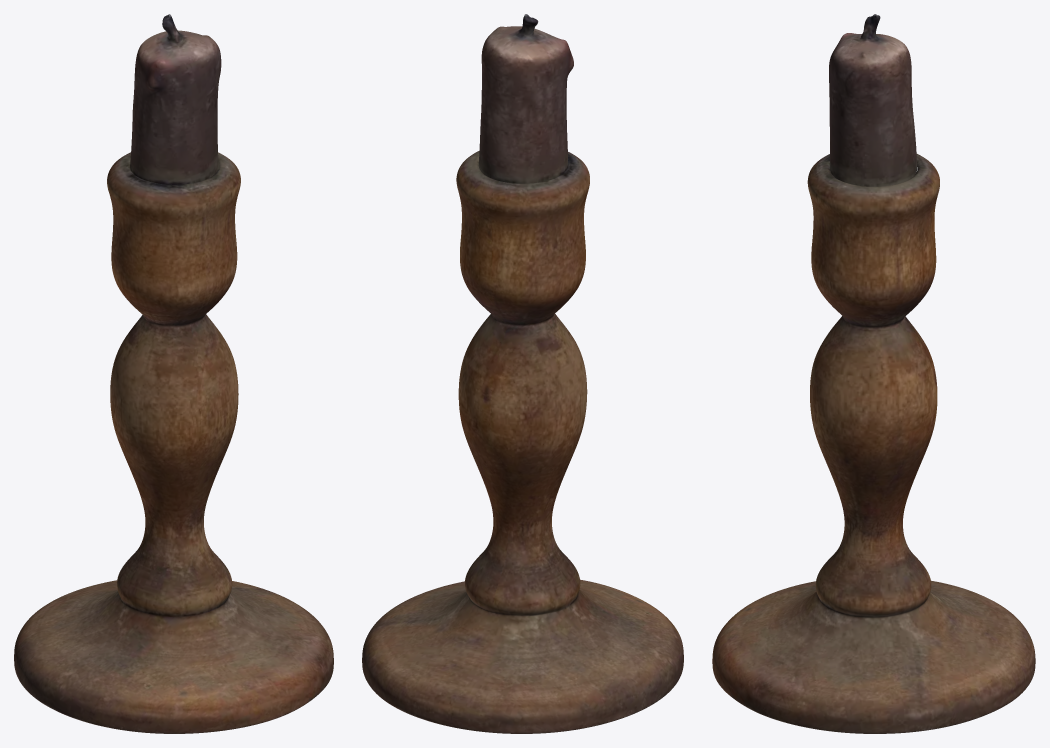
The model's file is wooden_candlestick.glb.
3 views of the same model, side by side, from view 1: azimuth 30°, elevation 25°; view 2: azimuth 150°, elevation 25°; view 3: azimuth 270°, elevation 25° (orthographic).
Visible parts, largest first — view 1: wooden_candlestick; view 2: wooden_candlestick; view 3: wooden_candlestick.
Part boxes in pixels (x1,y1,x2,y2): wooden_candlestick: (14, 14, 333, 733); wooden_candlestick: (362, 14, 683, 733); wooden_candlestick: (712, 14, 1035, 733).
Bounding box in the file's own units: 0.0972 × 0.2197 × 0.0987.
Materials: 1 (1 with a texture image).
